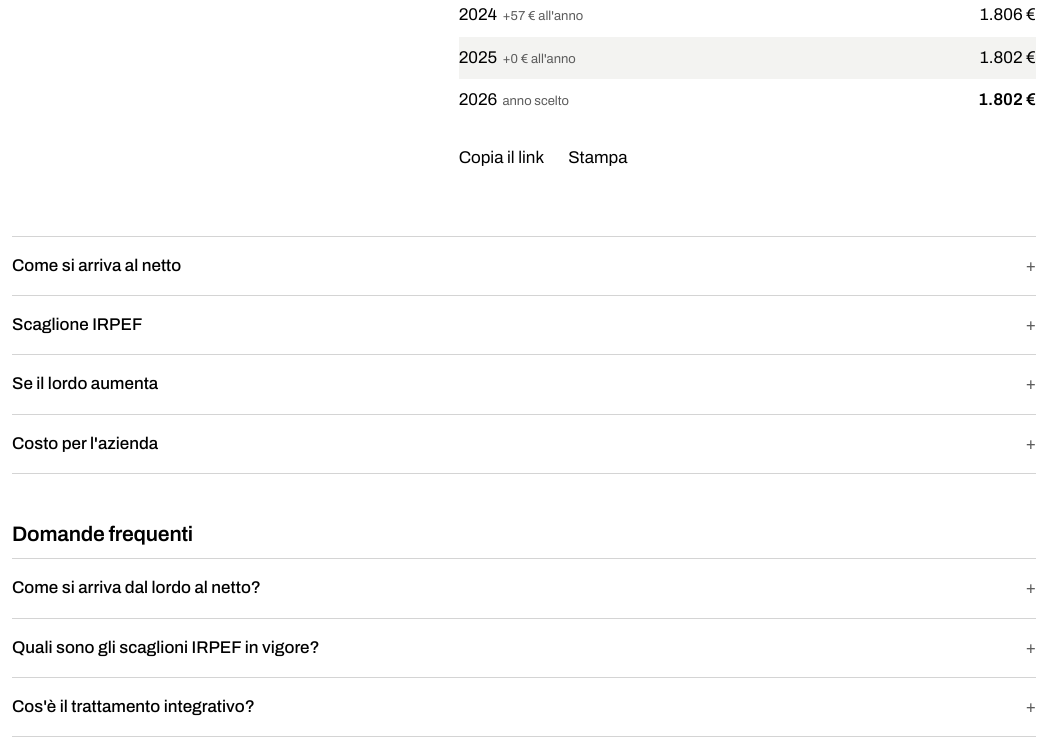
EmployeePage › lists the four raise steps with the share kept and the marginal rate
The width and height of the screenshot is (1048, 753).
(page scrolled)
Click the heading "Se il lordo aumenta": (85, 384) [12, 374, 158, 393]
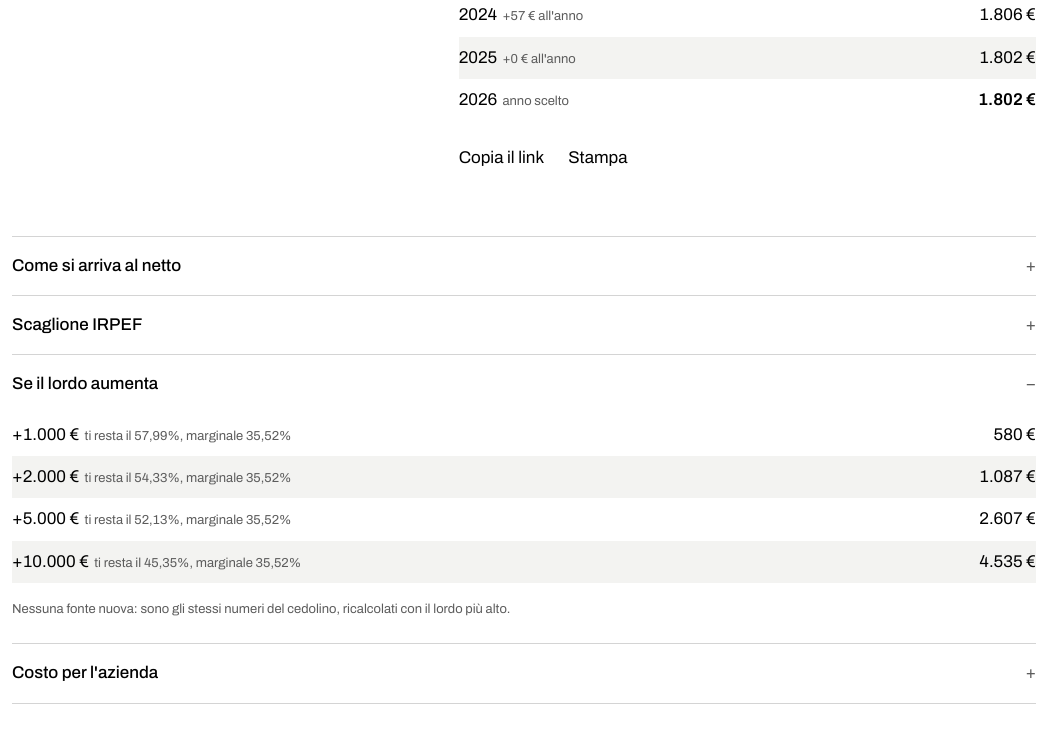
Expected: the row "+1.000 €ti resta il 57,99%, marginale 35,52% 580 €" is shown, [12, 414, 1036, 456]
Expected: the row "+10.000 €ti resta il 45,35%, marginale 35,52% 4.535 €" is shown, [12, 541, 1036, 583]
Expected: the element that starts with "Se il lordo aumenta" shows "Nessuna fonte nuova", [12, 602, 510, 616]
